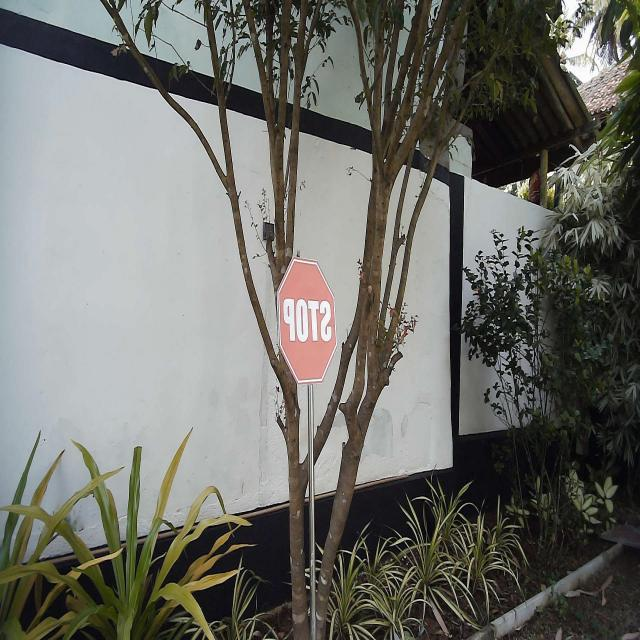stop: (274, 254, 339, 388)
